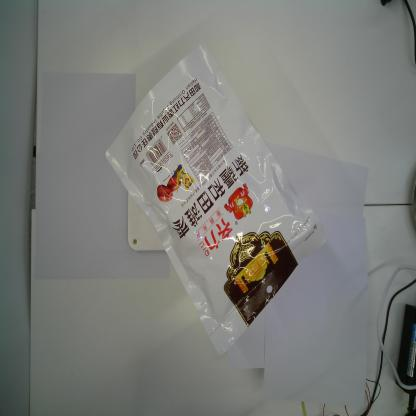Dried Food: (104, 42, 328, 358)
